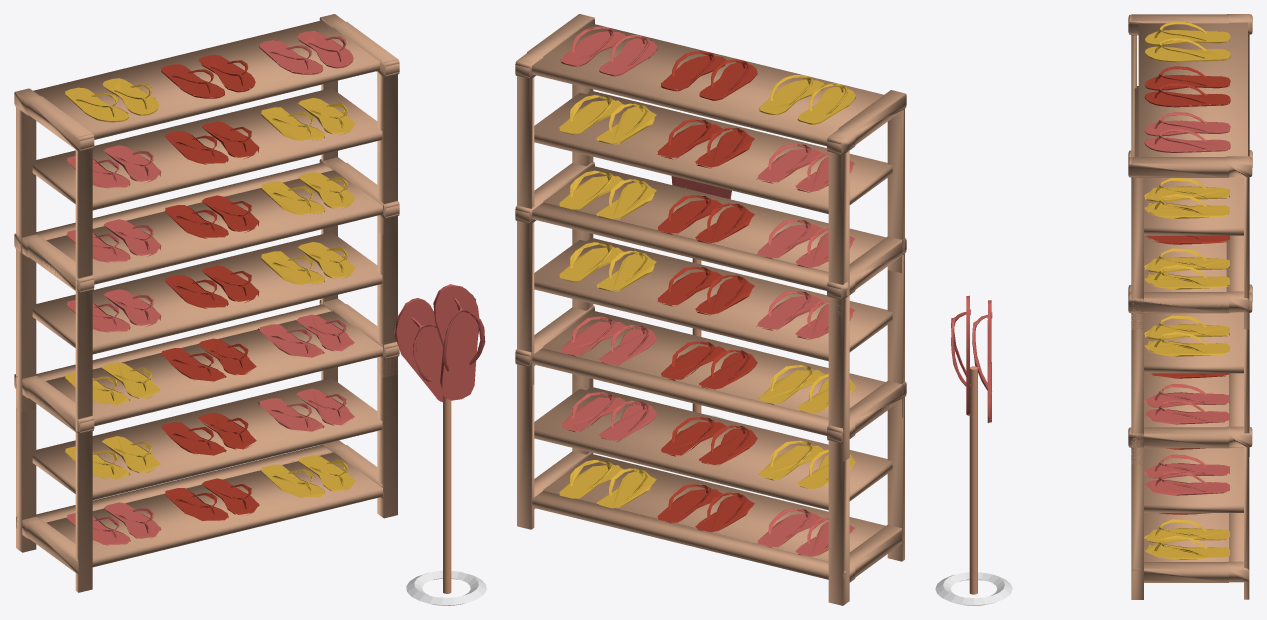
Rendered from Slippers.fbx.
3 renders of one model, left to right at view 1: azimuth 30°, elevation 25°; view 2: azimuth 150°, elevation 25°; view 3: azimuth 270°, elevation 25°, orthographic. The views are drawn at different scales.
Parts seen in each view (by area): view 1: Pattern2D_5081.002, Pattern2D_5081.005, Pattern2D_5081.009, Pattern2D_5081.004, Slipper_Mannequin, Cube.001_Cube.003, Cube.001_Cube.004, Cube.001_Cube.005, Cube.001_Cube.002, Cube.001_Cube.006, Cube.001_Cube.001, Cube.001_Cube.009; view 2: Pattern2D_5081.002, Pattern2D_5081.005, Pattern2D_5081.009, Pattern2D_5081.004, Cube.001_Cube.003, Cube.001_Cube.004, Cube.001_Cube.005, Cube.001_Cube.002, Cube.001_Cube.006, Cube.001_Cube.001, Cube.001_Cube.009, Slipper_Mannequin; view 3: Pattern2D_5081.002, Cube.001_Cube.003, Slipper_Mannequin, Pattern2D_5081.005, Pattern2D_5081.009, Pattern2D_5081.004, Cube.001_Cube.002, Cube.001_Cube.009, Cube.001_Cube.004, Cube.001_Cube.005, Cube.001_Cube.006, Cube.001_Cube.001.
Boxes of the visible parts, bbox=[...] form: Pattern2D_5081.002: bbox=[14, 14, 399, 592]; Pattern2D_5081.005: bbox=[32, 378, 382, 500]; Pattern2D_5081.009: bbox=[32, 88, 382, 210]; Pattern2D_5081.004: bbox=[32, 232, 382, 354]; Slipper_Mannequin: bbox=[394, 284, 486, 605]; Cube.001_Cube.003: bbox=[65, 31, 353, 122]; Cube.001_Cube.004: bbox=[66, 98, 355, 188]; Cube.001_Cube.005: bbox=[66, 242, 355, 332]; Cube.001_Cube.002: bbox=[67, 172, 355, 262]; Cube.001_Cube.006: bbox=[65, 388, 354, 479]; Cube.001_Cube.001: bbox=[67, 455, 355, 545]; Cube.001_Cube.009: bbox=[65, 314, 354, 405]; Pattern2D_5081.002: bbox=[515, 14, 906, 605]; Pattern2D_5081.005: bbox=[534, 387, 892, 510]; Pattern2D_5081.009: bbox=[534, 90, 892, 213]; Pattern2D_5081.004: bbox=[534, 238, 892, 361]; Cube.001_Cube.003: bbox=[560, 26, 855, 124]; Cube.001_Cube.004: bbox=[559, 95, 854, 192]; Cube.001_Cube.005: bbox=[559, 242, 854, 339]; Cube.001_Cube.002: bbox=[559, 170, 854, 268]; Cube.001_Cube.006: bbox=[560, 392, 855, 488]; Cube.001_Cube.001: bbox=[559, 460, 854, 556]; Cube.001_Cube.009: bbox=[560, 316, 855, 413]; Slipper_Mannequin: bbox=[671, 176, 731, 419]; Pattern2D_5081.002: bbox=[1128, 14, 1252, 599]; Cube.001_Cube.003: bbox=[1144, 21, 1230, 152]; Slipper_Mannequin: bbox=[935, 295, 1012, 605]; Pattern2D_5081.005: bbox=[1144, 448, 1243, 512]; Pattern2D_5081.009: bbox=[1134, 86, 1243, 235]; Pattern2D_5081.004: bbox=[1144, 313, 1243, 373]; Cube.001_Cube.002: bbox=[1144, 235, 1229, 289]; Cube.001_Cube.009: bbox=[1144, 373, 1229, 424]; Cube.001_Cube.004: bbox=[1144, 178, 1229, 218]; Cube.001_Cube.005: bbox=[1144, 315, 1229, 356]; Cube.001_Cube.006: bbox=[1144, 448, 1229, 495]; Cube.001_Cube.001: bbox=[1144, 513, 1229, 559].
Bounding box in the file's own units: 243 × 342 × 216.
